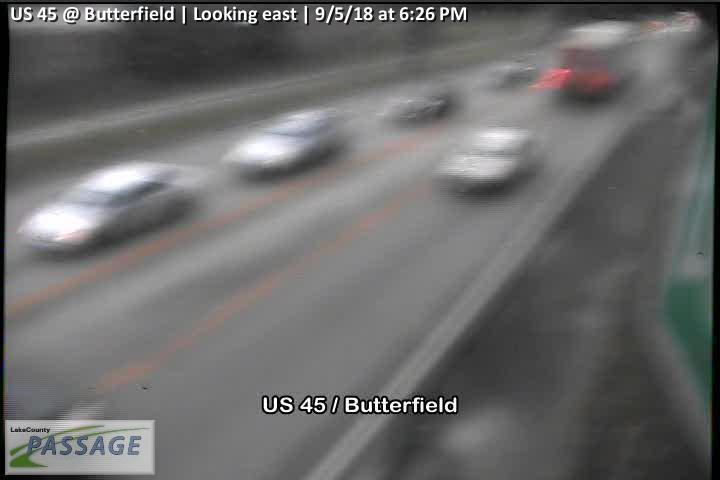Sedan: (16, 157, 207, 255), (220, 108, 358, 175), (434, 125, 542, 190)
